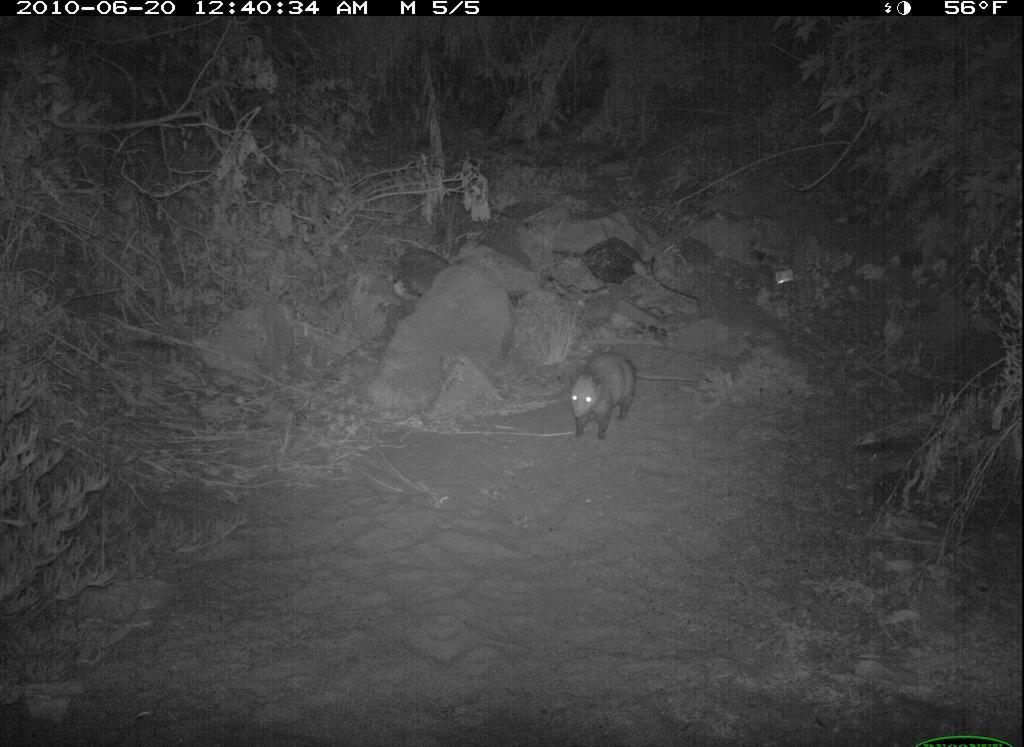opossum: (561, 349, 644, 447)
